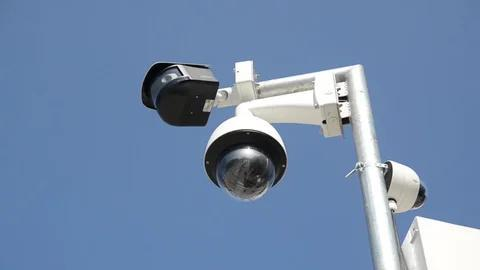360-Cam: (198, 111, 295, 208), (375, 160, 429, 219)
